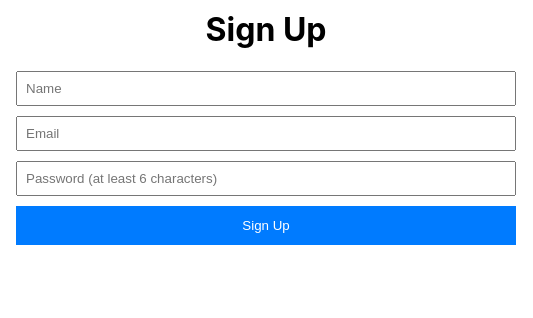
Test: show error if the form is empty
This screenshot has width=533, height=318.
Click the button "Sign Up". click: (266, 225)
box: [16,206,516,245]
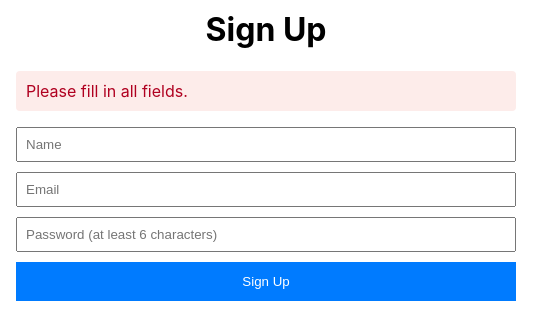
Now the text "Please fill in all fields." is shown, box [16,71,516,111]
